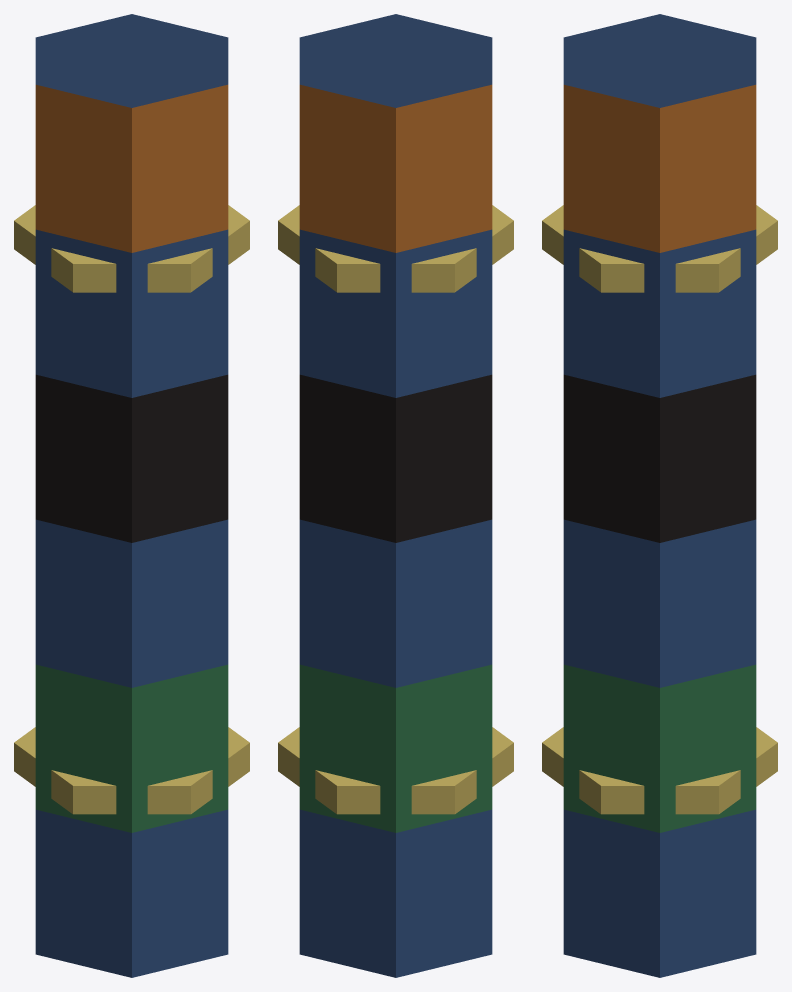
Rendered from kente-throw-roll-47.glb.
The picture shows the model from 3 angles, left to right: view 1: azimuth 30°, elevation 25°; view 2: azimuth 150°, elevation 25°; view 3: azimuth 270°, elevation 25°; orthographic projection.
Visible parts, largest first — view 1: kente_throw_roll_47; view 2: kente_throw_roll_47; view 3: kente_throw_roll_47.
Part boxes in pixels (bbox=[...]): kente_throw_roll_47: bbox=[14, 14, 249, 977]; kente_throw_roll_47: bbox=[278, 14, 513, 977]; kente_throw_roll_47: bbox=[542, 14, 777, 977].
Bounding box in the file's own units: 0.2114 × 0.9115 × 0.2241.
